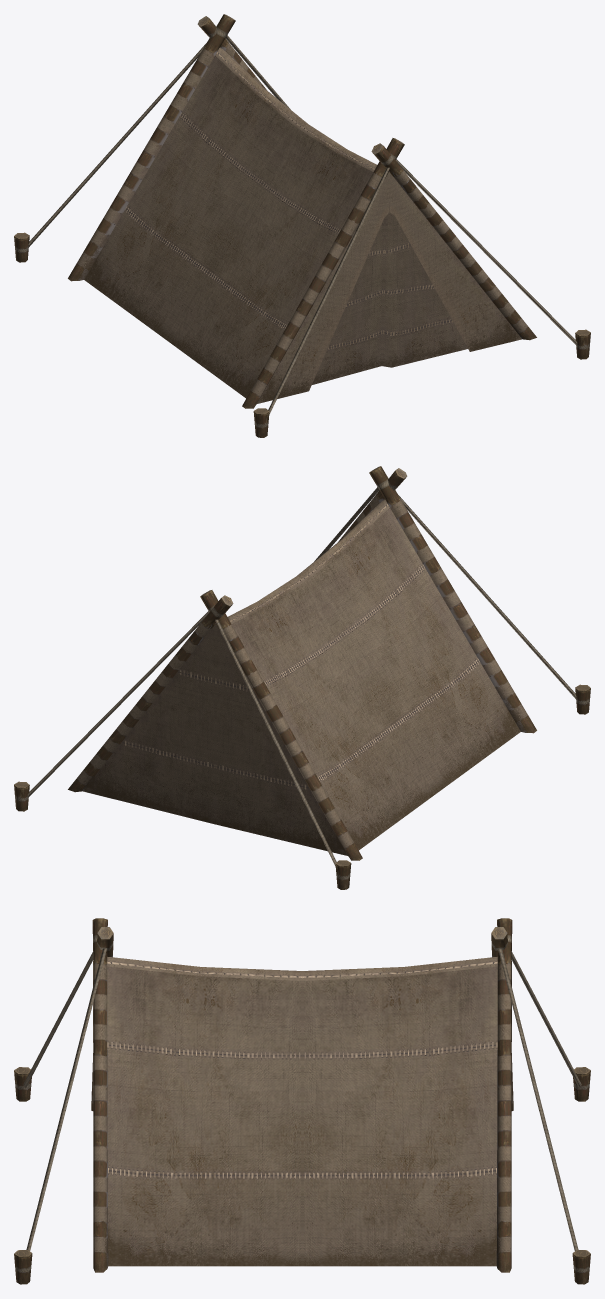
The model's file is b_hn_zhangpeng03.FBX.
3 renders of one model, top to bottom at view 1: azimuth 30°, elevation 25°; view 2: azimuth 150°, elevation 25°; view 3: azimuth 270°, elevation 25°, orthographic. The views are drawn at different scales.
Parts seen in each view (by area): view 1: b_hn_zhangpeng03; view 2: b_hn_zhangpeng03; view 3: b_hn_zhangpeng03.
Boxes of the visible parts, x1=… form: b_hn_zhangpeng03: x1=14, y1=14, x2=590, y2=437; b_hn_zhangpeng03: x1=14, y1=466, x2=590, y2=889; b_hn_zhangpeng03: x1=14, y1=918, x2=590, y2=1284.
Bounding box in the file's own units: 7.59 × 4.99 × 9.74.
